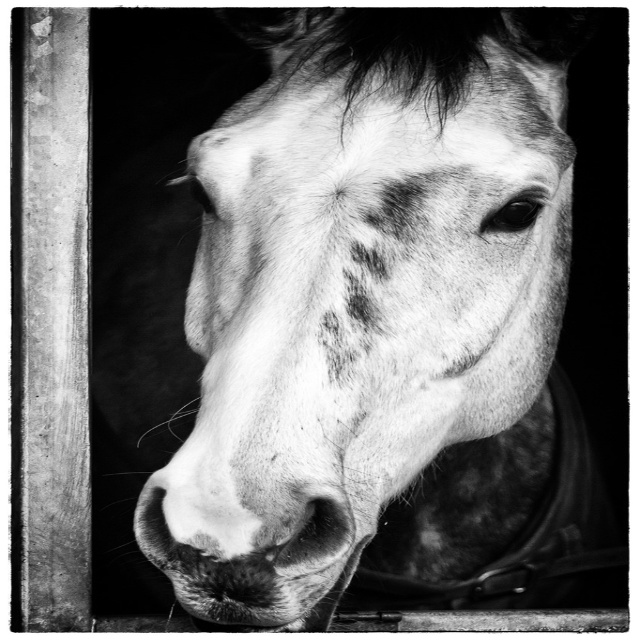Horse: (134, 3, 580, 636)
